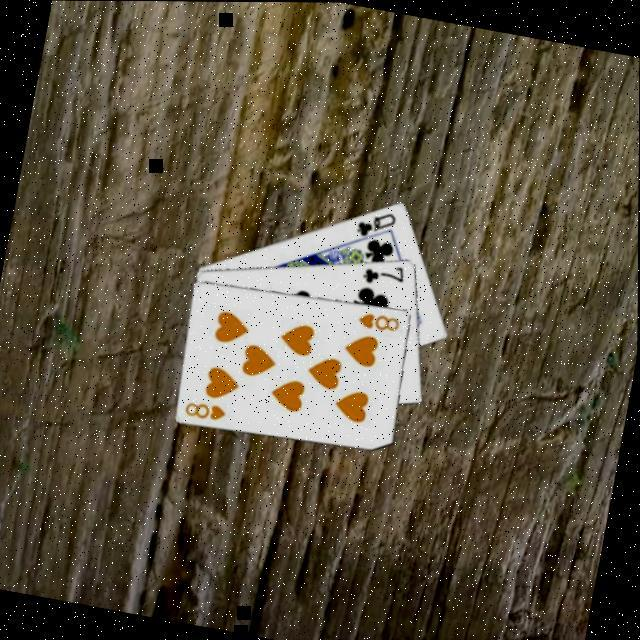7C: (362, 254, 412, 290)
8H: (356, 304, 406, 334), (184, 393, 232, 423)
QC: (353, 201, 402, 242)
